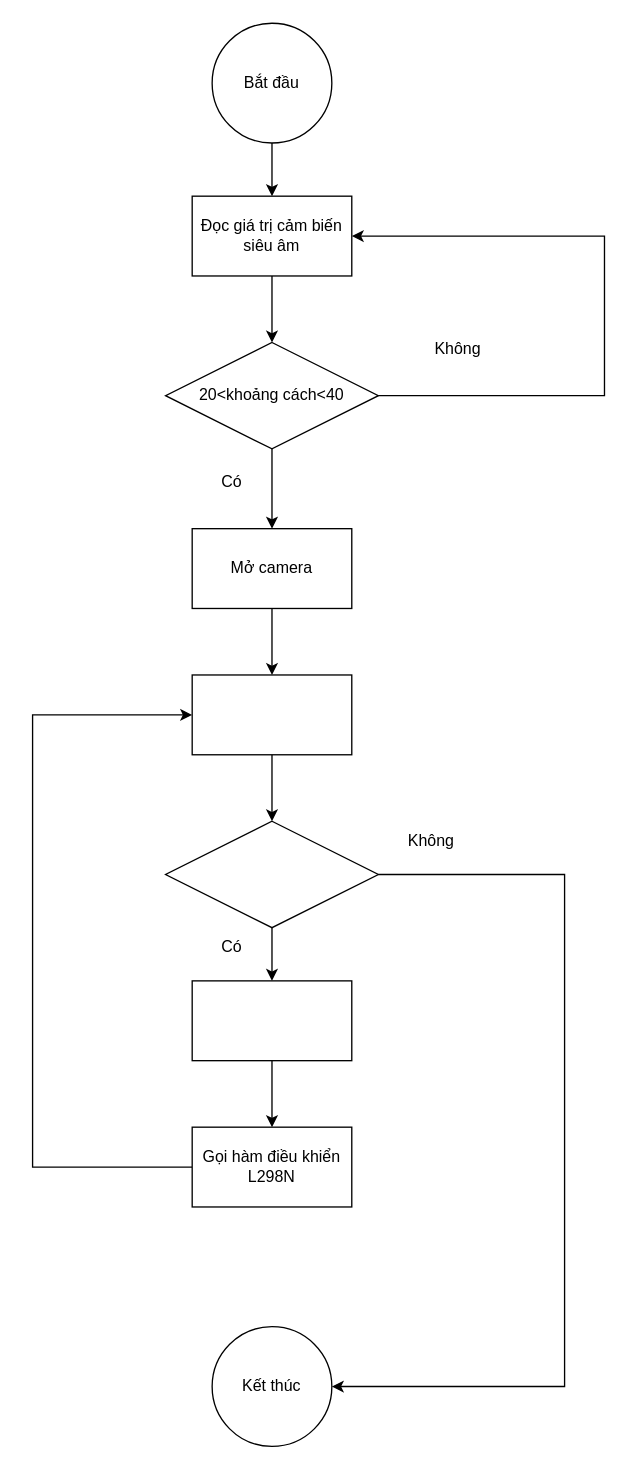
This 638x1470 diagram has some shape labels left out. Here are the shapes that lost their labels. From the top down, the centre of each, then its label:
(271,714): Nhận dạng biển báo
(271,874): Có phát hiện biển báo?
(271,1020): Kiểm tra lệnh trong biển báo
